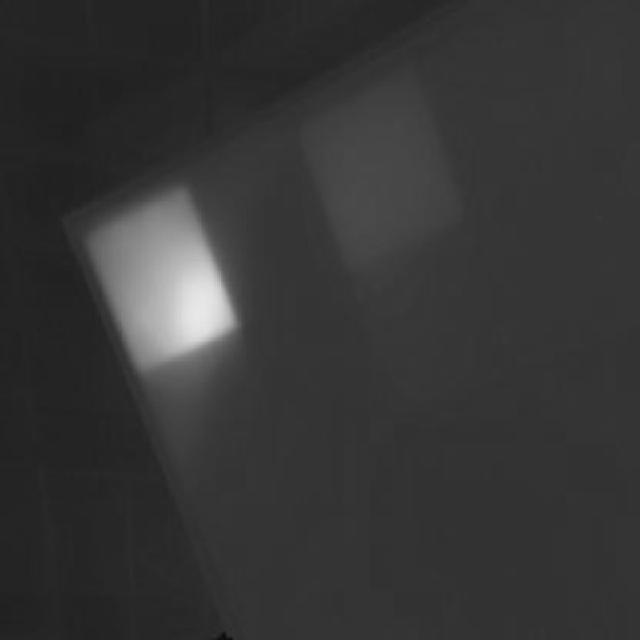hotspot: (75, 164, 247, 382)
